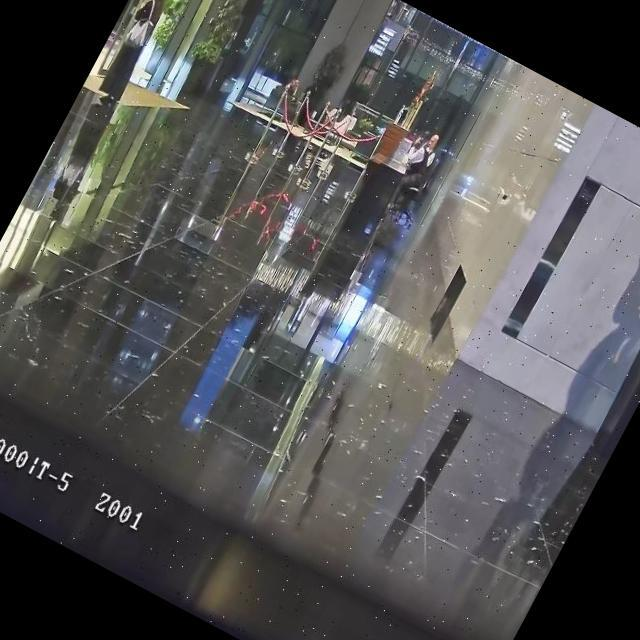person: (94, 0, 179, 102), (382, 126, 444, 210), (416, 131, 444, 167), (282, 72, 304, 98)
